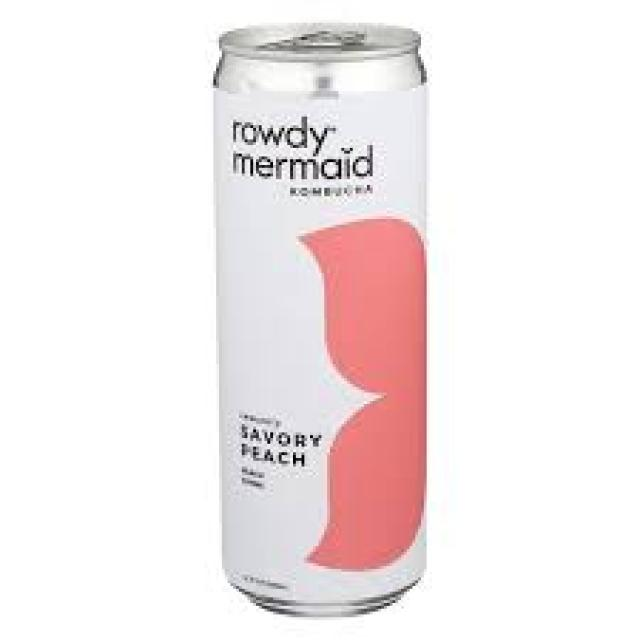Cans: (205, 11, 444, 623)
